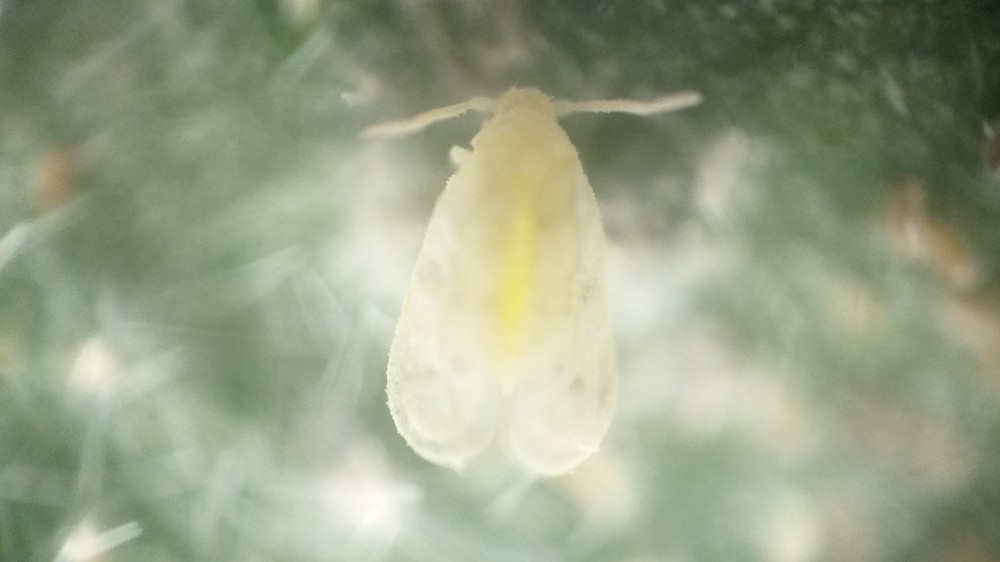Mosca Blanca: (335, 73, 711, 494)
